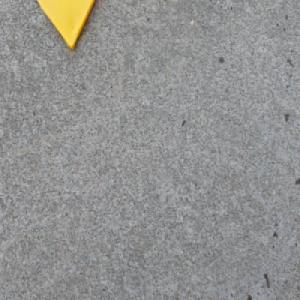PlasticPart: (33, 0, 96, 50)
